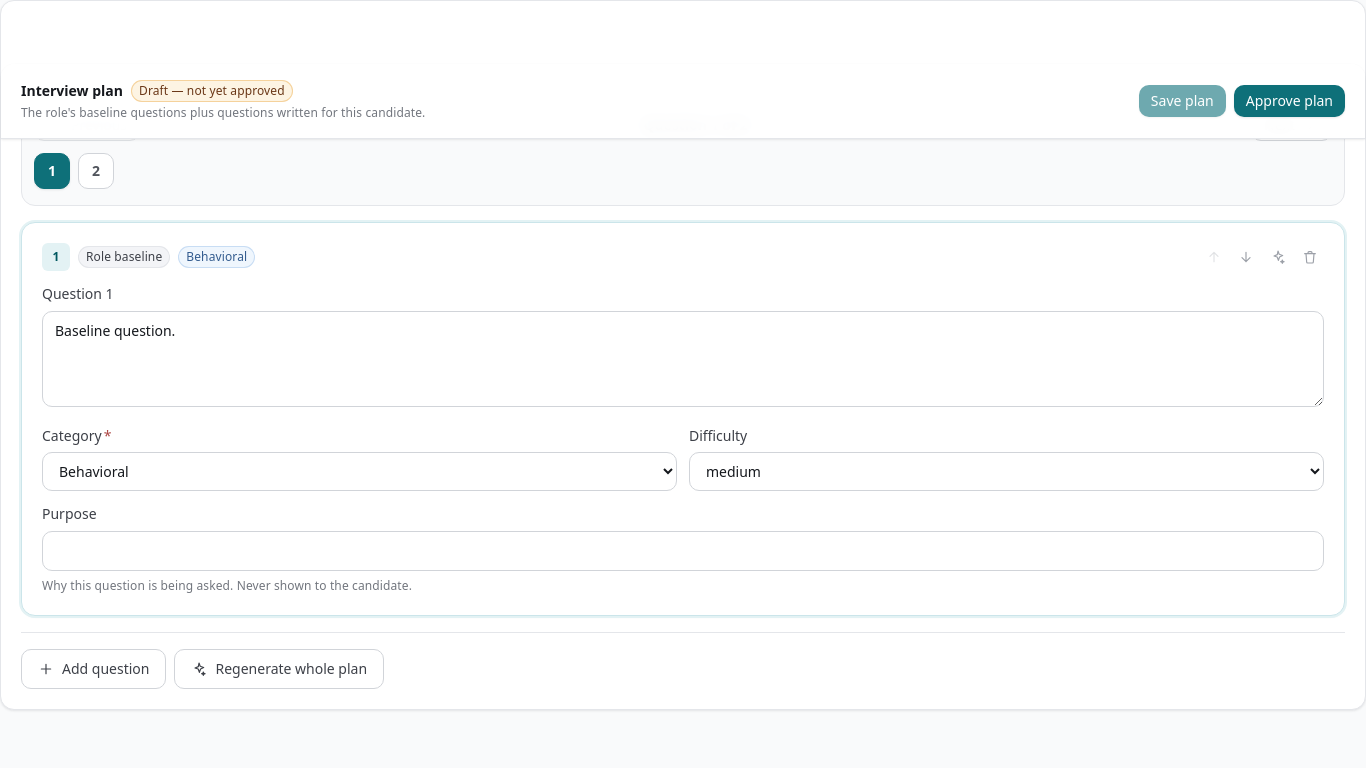
it: InterviewPlanEditor › discards local edits on request
Type " edited" into the text box labelled "Question 1" at [683, 359], box [42,311,1324,407]
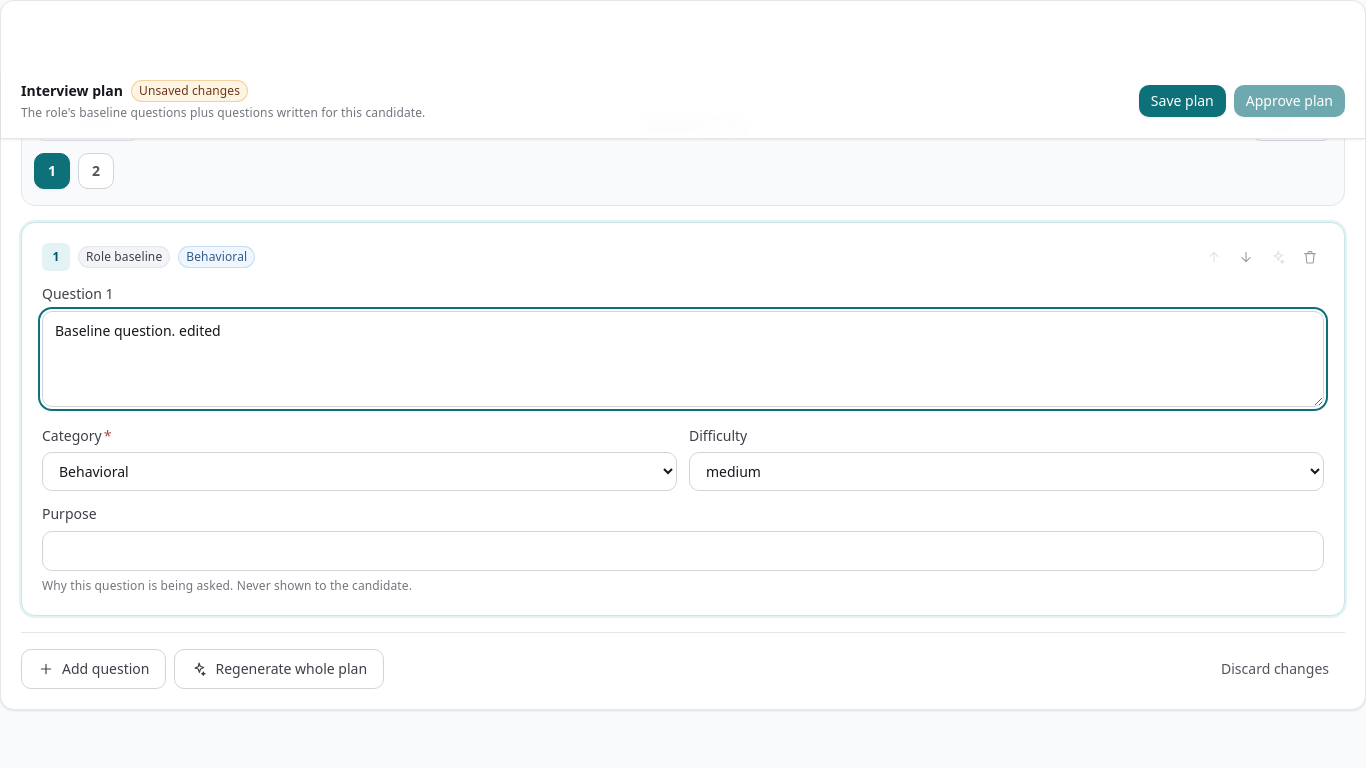
Check: the text "Unsaved changes" is shown, box [131,80,248,102]
Click the button "Discard changes" at [1275, 669], box [1205,649,1345,689]
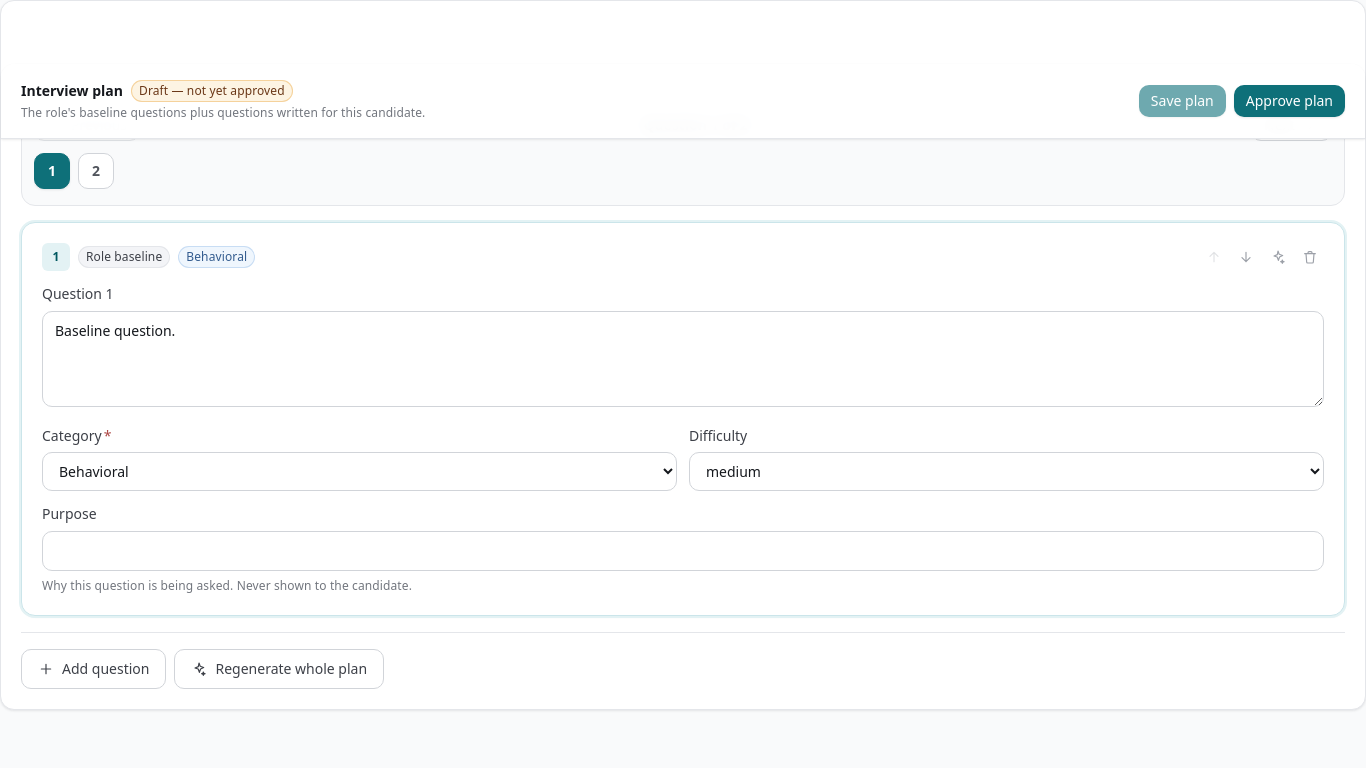
Check: the text box labelled "Question 1" holds "Baseline question.", box [42,311,1324,407]
